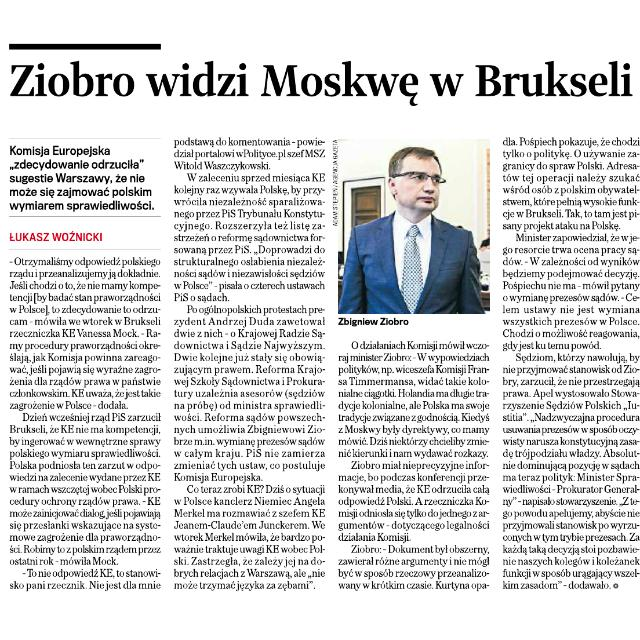author: (5, 225, 114, 247)
body: (170, 133, 328, 597), (496, 132, 640, 594), (4, 253, 164, 594), (334, 337, 494, 597)
caption: (336, 315, 414, 329)
image: (334, 134, 491, 314)
lead: (6, 141, 158, 213)
title: (8, 54, 638, 108)
